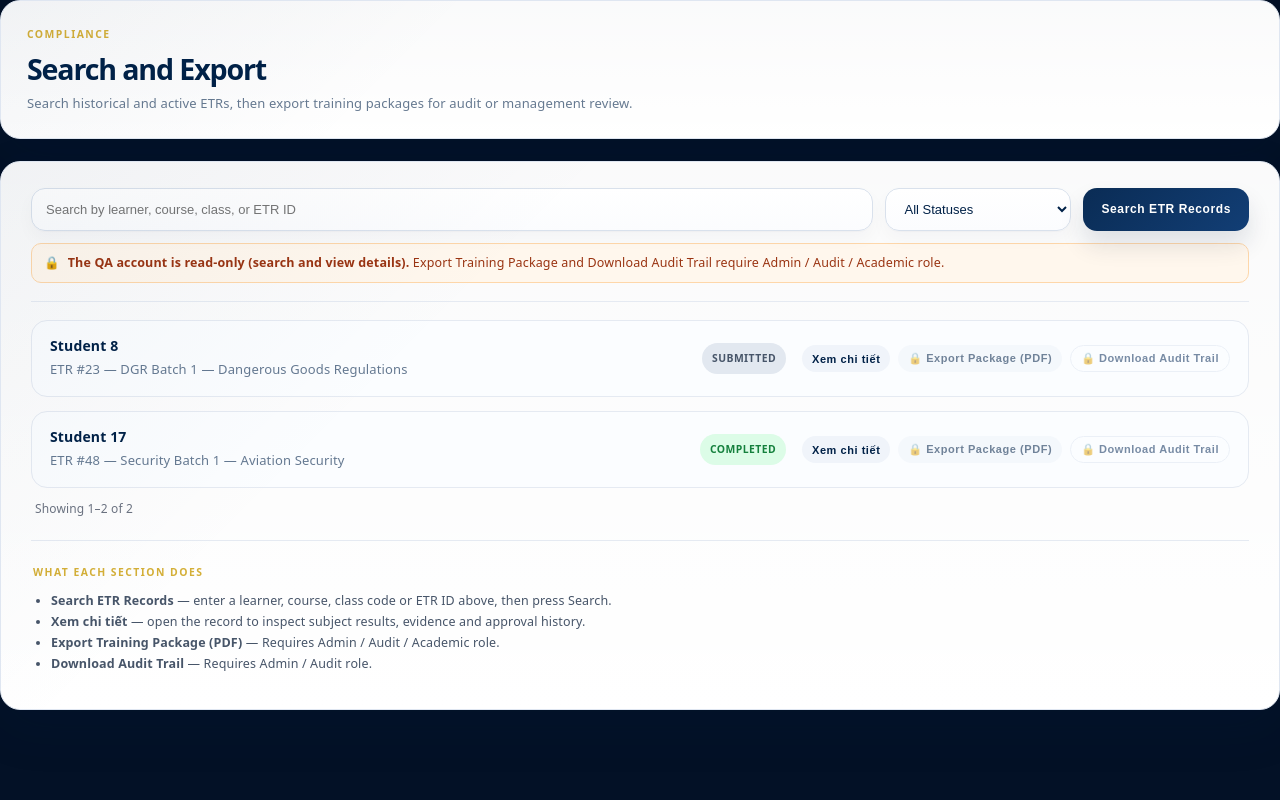
QA Search ETR Records (QASearchExport) › tìm theo từ khoá vẫn lọc đúng khi phải rơi về /Etr
Expected: the text "Student 8" is shown, [50,336,118,355]
Type "ETR-0048" into the field with placeholder "Search by learner, course, class, or ETR ID".
click(452, 209); type("ETR-0048")  # box [31,188,874,231]
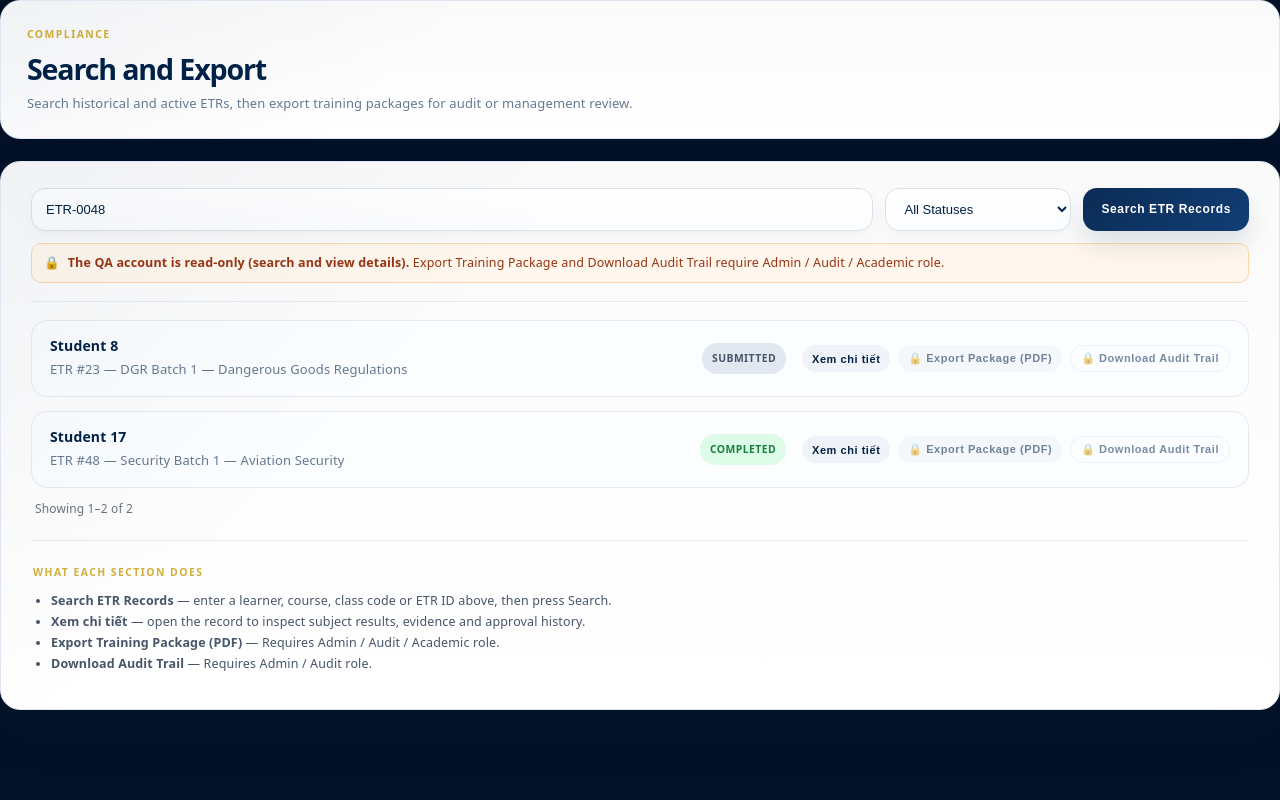
Click the button "Search ETR Records".
click(1166, 209)  # box [1084,188,1249,231]
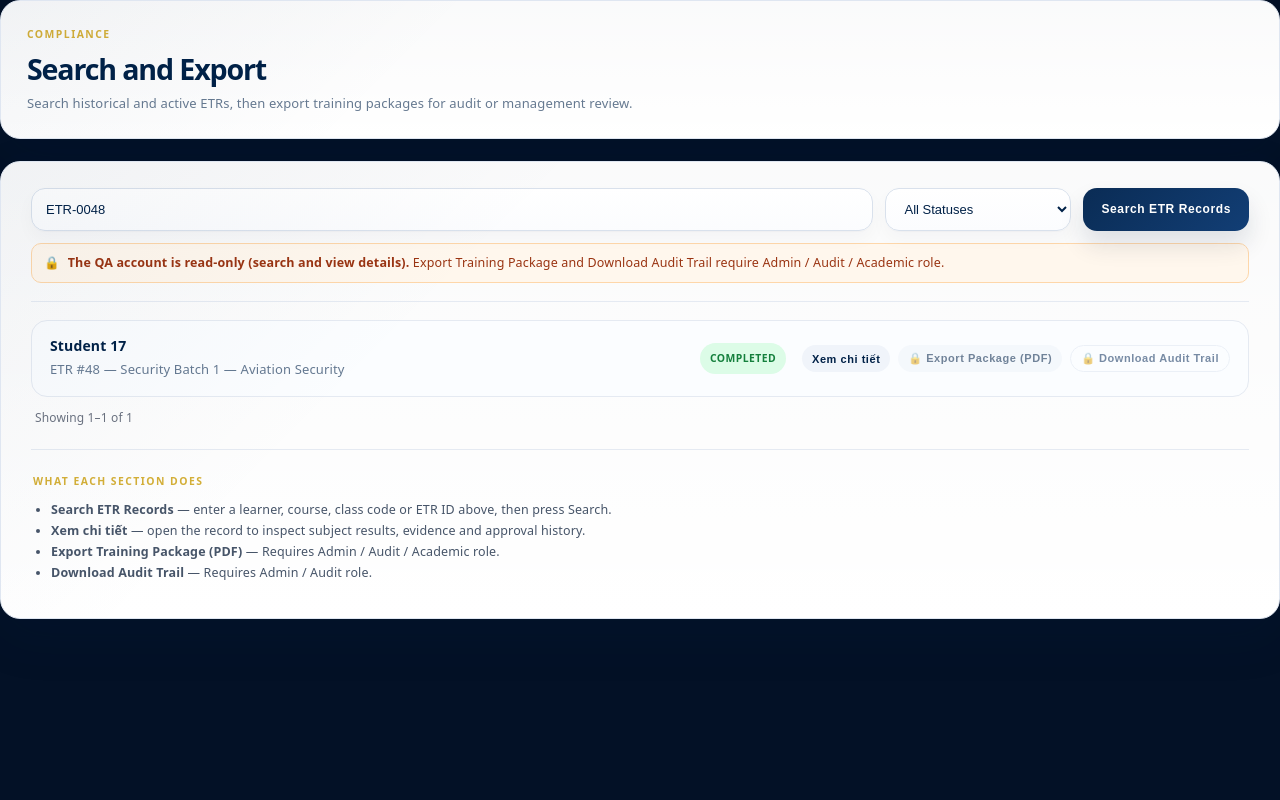
Now the text "Student 17" is shown, box [50,336,126,355]
Now the text "Student 8" is gone
